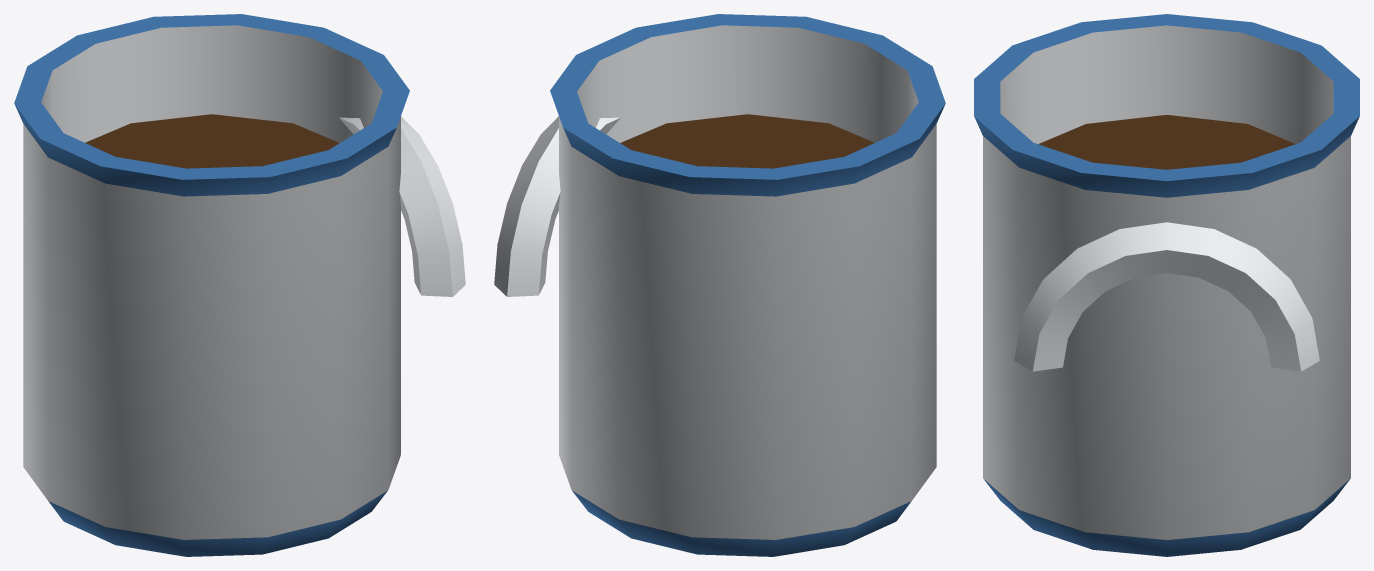
Rendered from SM_Mug.glb.
The picture shows the model from 3 angles, left to right: view 1: azimuth 30°, elevation 25°; view 2: azimuth 150°, elevation 25°; view 3: azimuth 270°, elevation 25°; orthographic projection.
Visible parts, largest first — view 1: SM_Mug; view 2: SM_Mug; view 3: SM_Mug.
Part boxes in pixels (<box>): SM_Mug: <box>14,14,465,556</box>; SM_Mug: <box>494,14,945,556</box>; SM_Mug: <box>974,14,1359,556</box>.
Bounding box in the file's own units: 0.0917 × 0.095 × 0.0858.
1 material, 1 textured.
